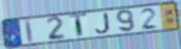2: (45, 16, 67, 42), (138, 7, 160, 31)
9: (114, 9, 137, 34)
I: (23, 19, 34, 43)
J: (94, 12, 111, 34)
T: (68, 12, 89, 39)
